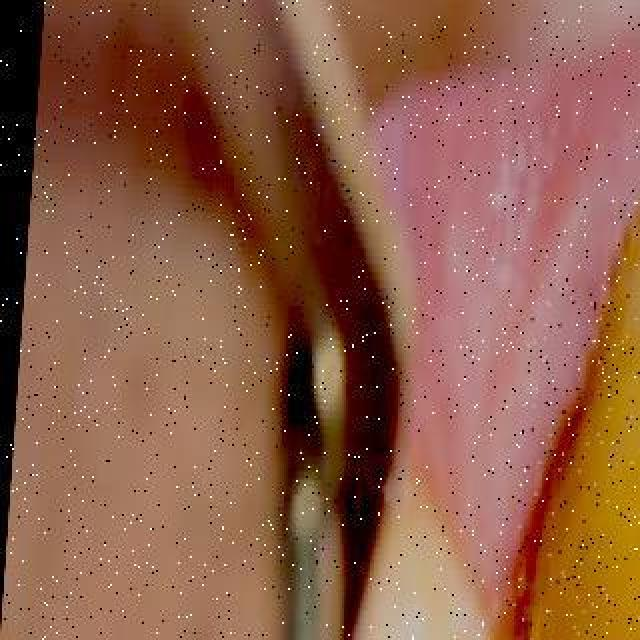cavities: (434, 136, 640, 640)
